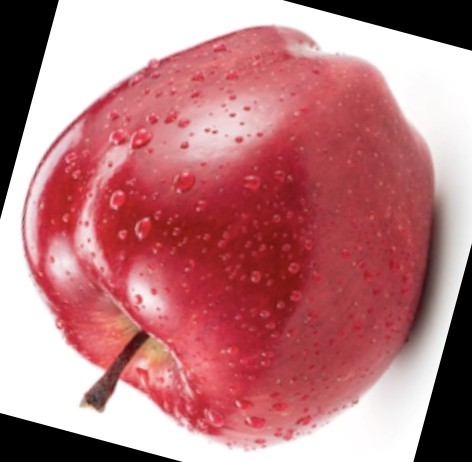fresh_apple: (26, 24, 439, 445)
